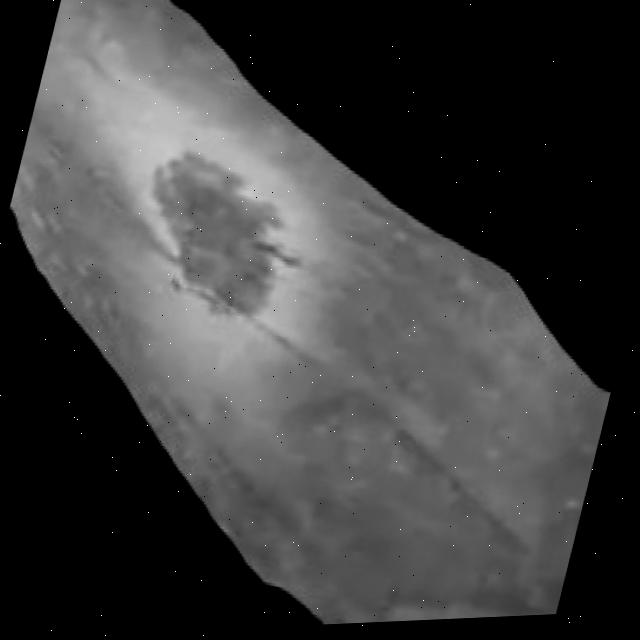mite: (0, 189, 449, 630)
sunburn: (118, 136, 326, 334)
